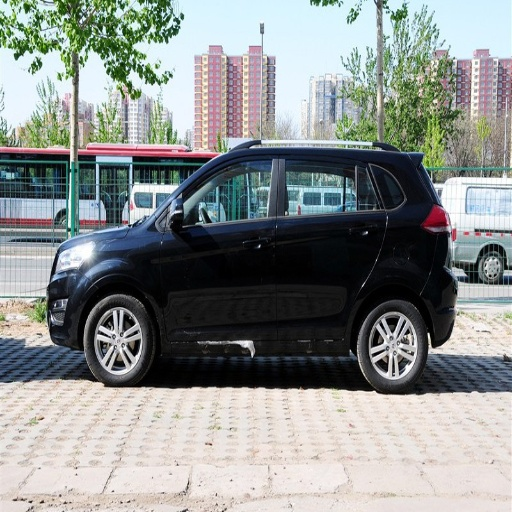back_left_door: (279, 150, 384, 344)
front_left_door: (162, 148, 279, 340)
